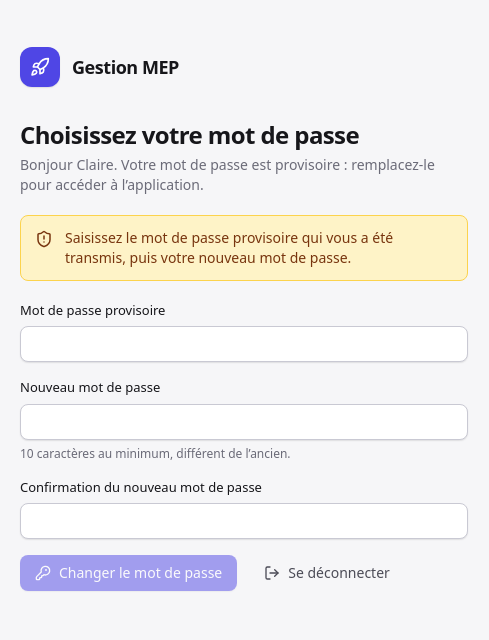
Test case: Mot de passe provisoire › affiche l’erreur du serveur
Type "faux" into the password field labelled "Mot de passe provisoire" at (244, 344), box [20,326,468,362]
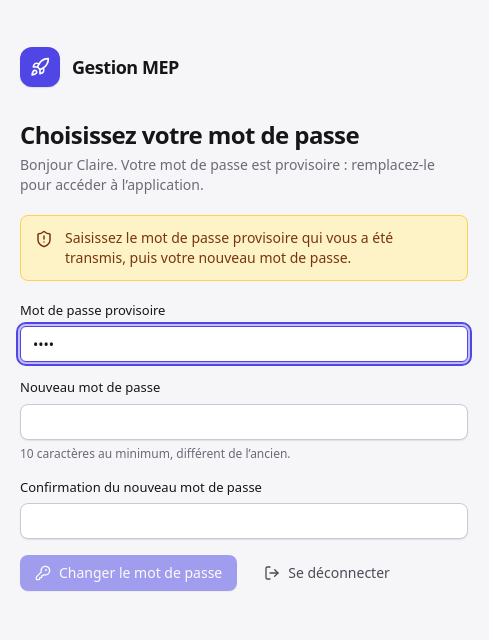
Type "assez-long-1" into the password field labelled "Nouveau mot de passe" at (244, 422), box [20,404,468,440]
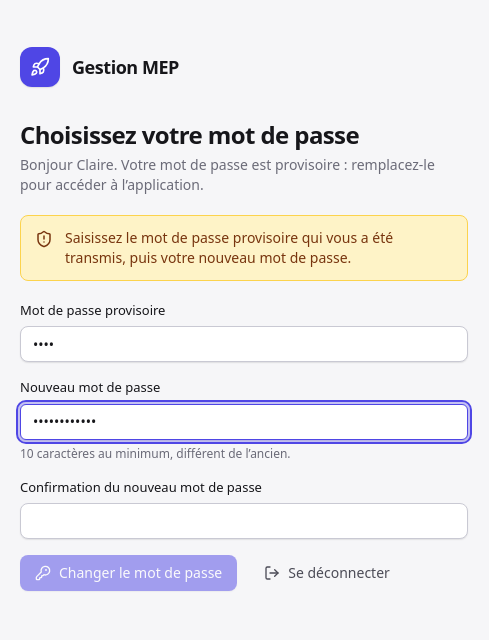
Type "assez-long-1" into the password field labelled "Confirmation du nouveau mot de passe" at (244, 521), box [20,503,468,539]
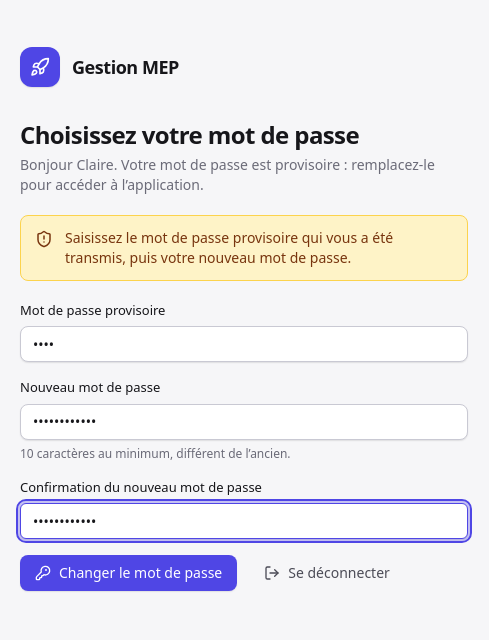
Click the button "Changer le mot de passe" at (129, 573), box [20,555,237,591]
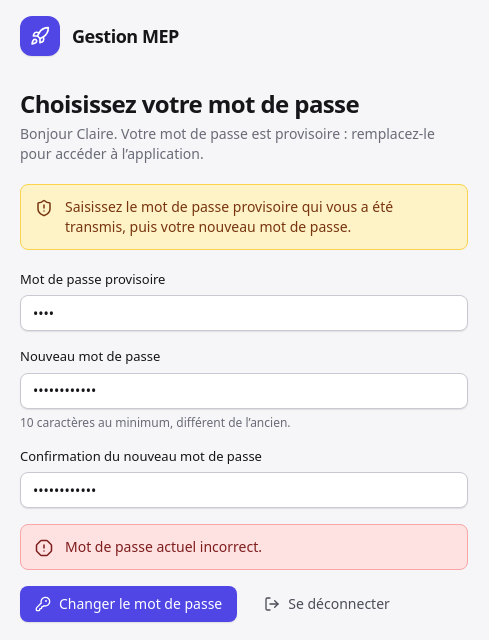
Expected: the text "Mot de passe actuel incorrect." is shown, [65,537,262,556]
